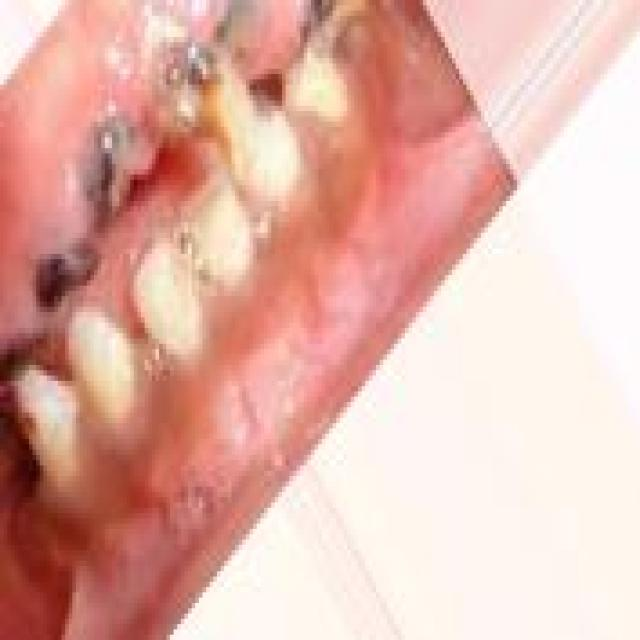caries: (146, 25, 258, 180), (77, 100, 159, 226), (20, 217, 113, 322), (276, 0, 356, 95)
